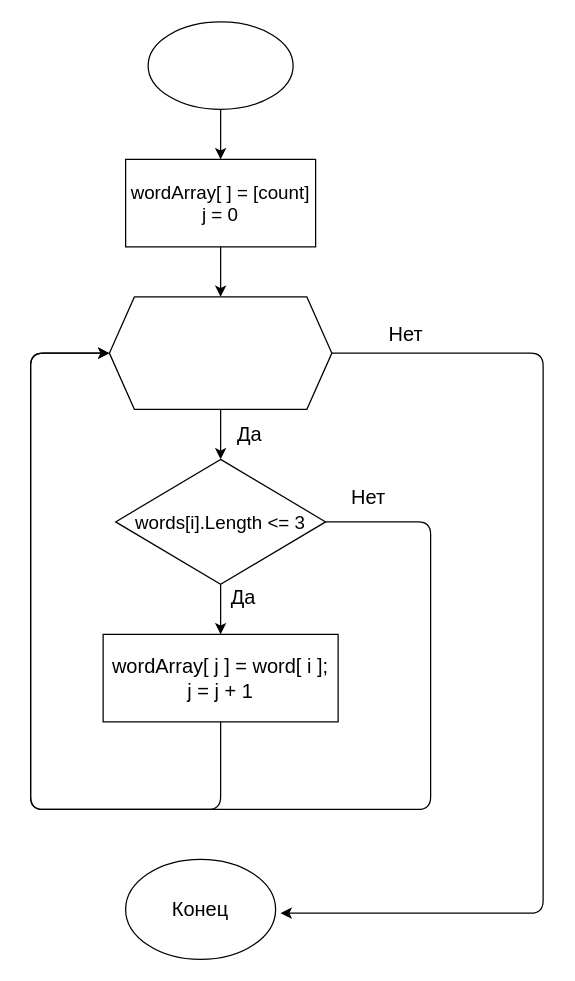
This 575x981 diagram has some shape labels left out. The shapes that lost their labels are listed below. From the top down, each one's box as (x1, y1, x2, y2) in pixels, then its label:
(147, 21, 293, 109): Начало
(108, 296, 332, 409): i = 0, i < words.Length, 1
